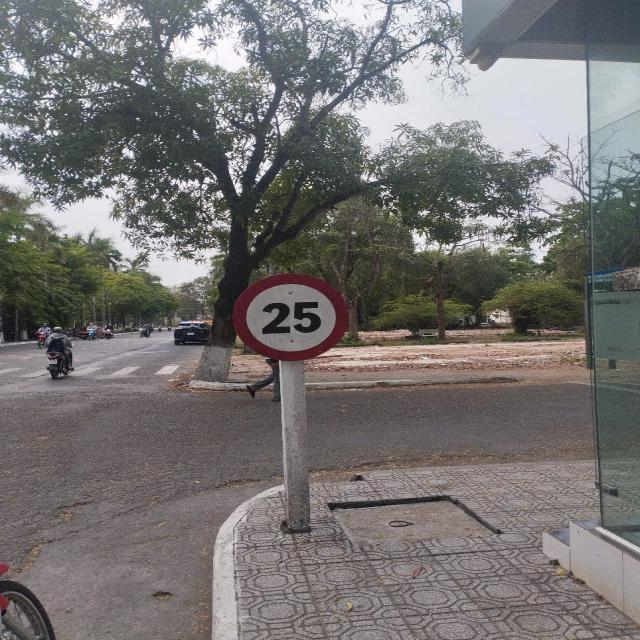Tre_Em: (232, 273, 350, 361)
